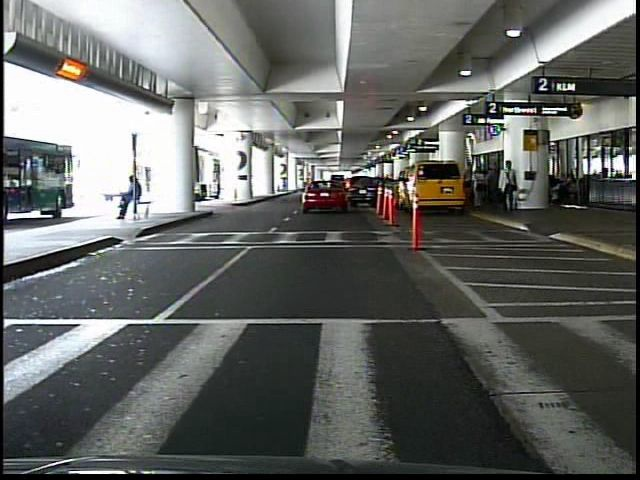person: (501, 162, 519, 213), (485, 165, 499, 215), (473, 165, 487, 210)
